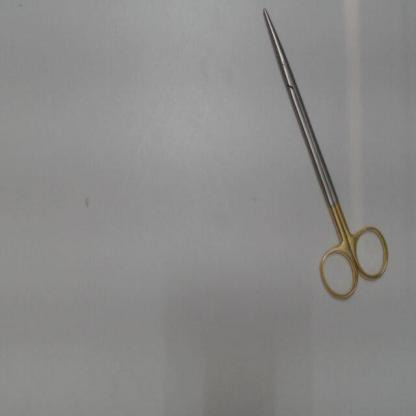7 Metzenbaum Scissors: (260, 3, 395, 306)
